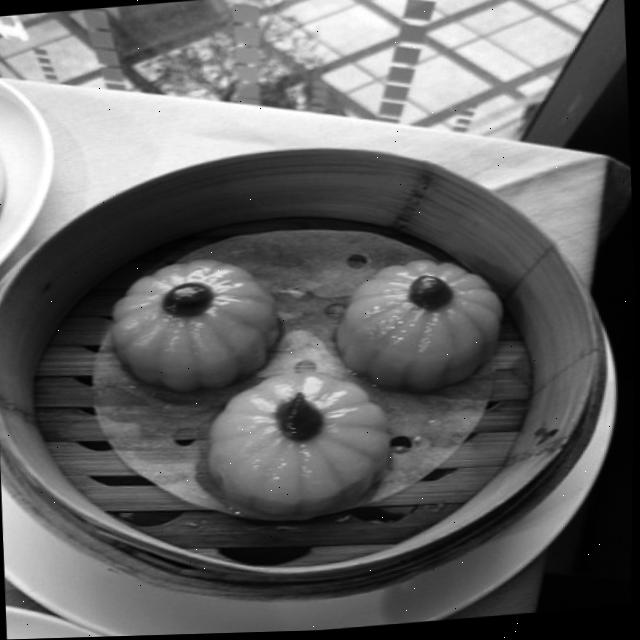炸货点心: (56, 158, 580, 572)
蛋糕甜品: (56, 158, 580, 572)
